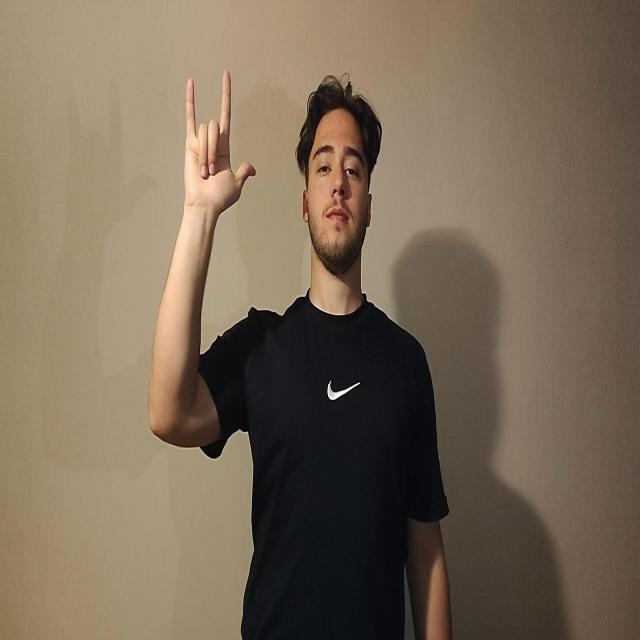iloveyou: (183, 68, 256, 219)
